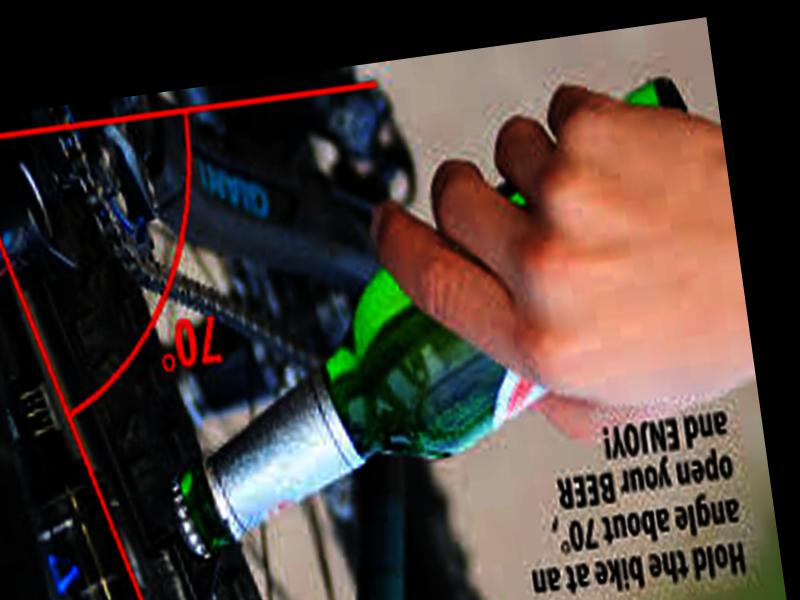Beer: (116, 73, 740, 562)
